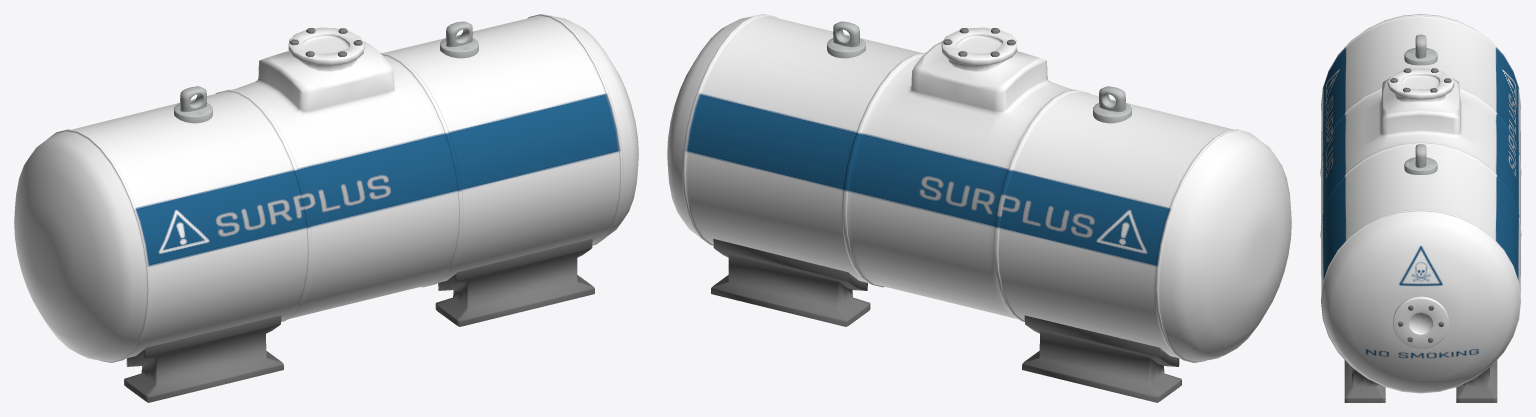
Rendered from industrial_storage_tank.glb.
3 renders of one model, left to right at view 1: azimuth 30°, elevation 25°; view 2: azimuth 150°, elevation 25°; view 3: azimuth 270°, elevation 25°, orthographic. The views are drawn at different scales.
Parts seen in each view (by area): view 1: RetryTank_low, TankLegs_low, Hooks_low; view 2: RetryTank_low, TankLegs_low, Hooks_low; view 3: RetryTank_low, TankLegs_low, TankEnd_low, Hooks_low, TankTopBolts_low.
Part boxes in pixels (box(x1,y1,x2,y2)): RetryTank_low: box(14, 14, 638, 362); TankLegs_low: box(124, 239, 594, 402); Hooks_low: box(174, 21, 478, 123); RetryTank_low: box(667, 14, 1291, 362); TankLegs_low: box(711, 239, 1181, 402); Hooks_low: box(827, 21, 1131, 123); RetryTank_low: box(1320, 14, 1521, 393); TankLegs_low: box(1344, 360, 1497, 402); TankEnd_low: box(1393, 296, 1448, 348); Hooks_low: box(1404, 34, 1437, 174); TankTopBolts_low: box(1390, 68, 1451, 92).
Size of the model in its own units: 14.89 by 6.77 by 5.33.
Materials: 1 (1 with a texture image).
